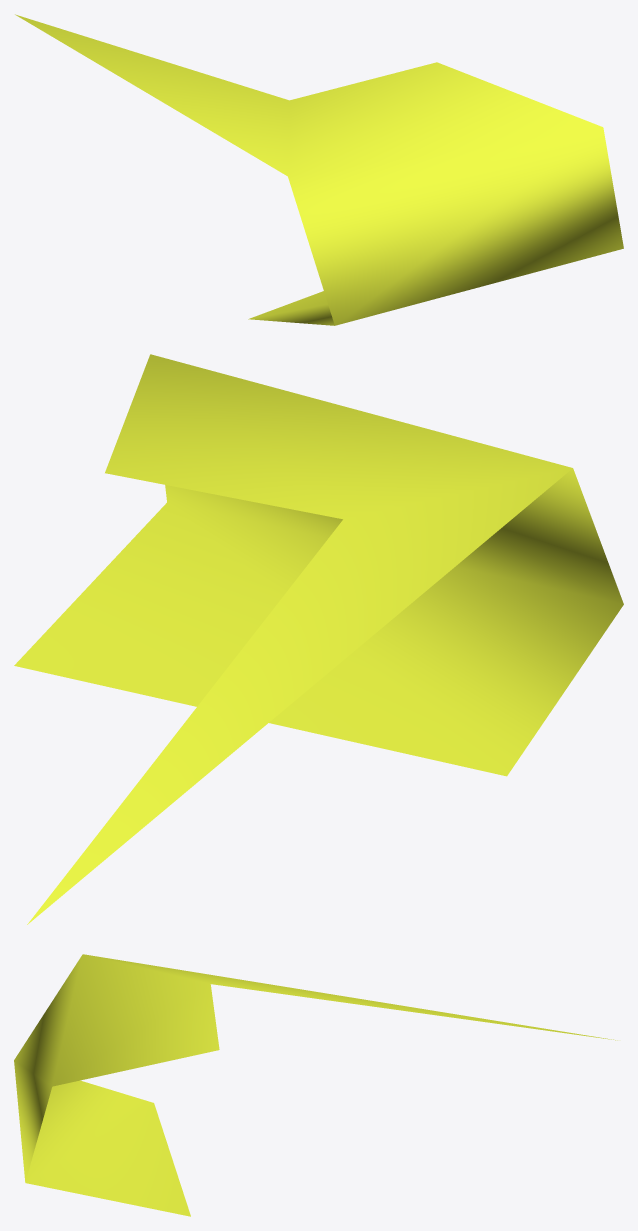
File: b_polySurface699_b_BMW_i8Elite_2017CalliperGloss_Material1_0.glb
3 renders of one model, top to bottom at view 1: azimuth 30°, elevation 25°; view 2: azimuth 150°, elevation 25°; view 3: azimuth 270°, elevation 25°, orthographic. The views are drawn at different scales.
Parts seen in each view (by area): view 1: b:polySurface699_b:BMW_i8Elite_2017CalliperGloss_Material1_0; view 2: b:polySurface699_b:BMW_i8Elite_2017CalliperGloss_Material1_0; view 3: b:polySurface699_b:BMW_i8Elite_2017CalliperGloss_Material1_0.
Part boxes in pixels (x1,y1,x2,y2): b:polySurface699_b:BMW_i8Elite_2017CalliperGloss_Material1_0: [15, 14, 623, 325]; b:polySurface699_b:BMW_i8Elite_2017CalliperGloss_Material1_0: [14, 354, 623, 924]; b:polySurface699_b:BMW_i8Elite_2017CalliperGloss_Material1_0: [14, 954, 617, 1216].
Bounding box in the file's own units: 0.0436 × 0.024 × 0.0883.
